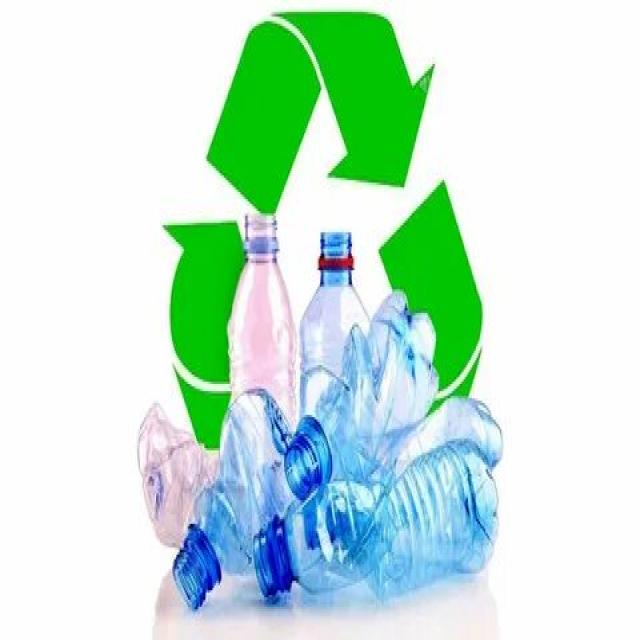blue: (255, 438, 500, 607), (286, 289, 440, 503), (175, 390, 292, 607)
